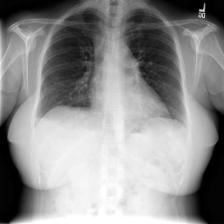normal: (34, 2, 188, 131)
